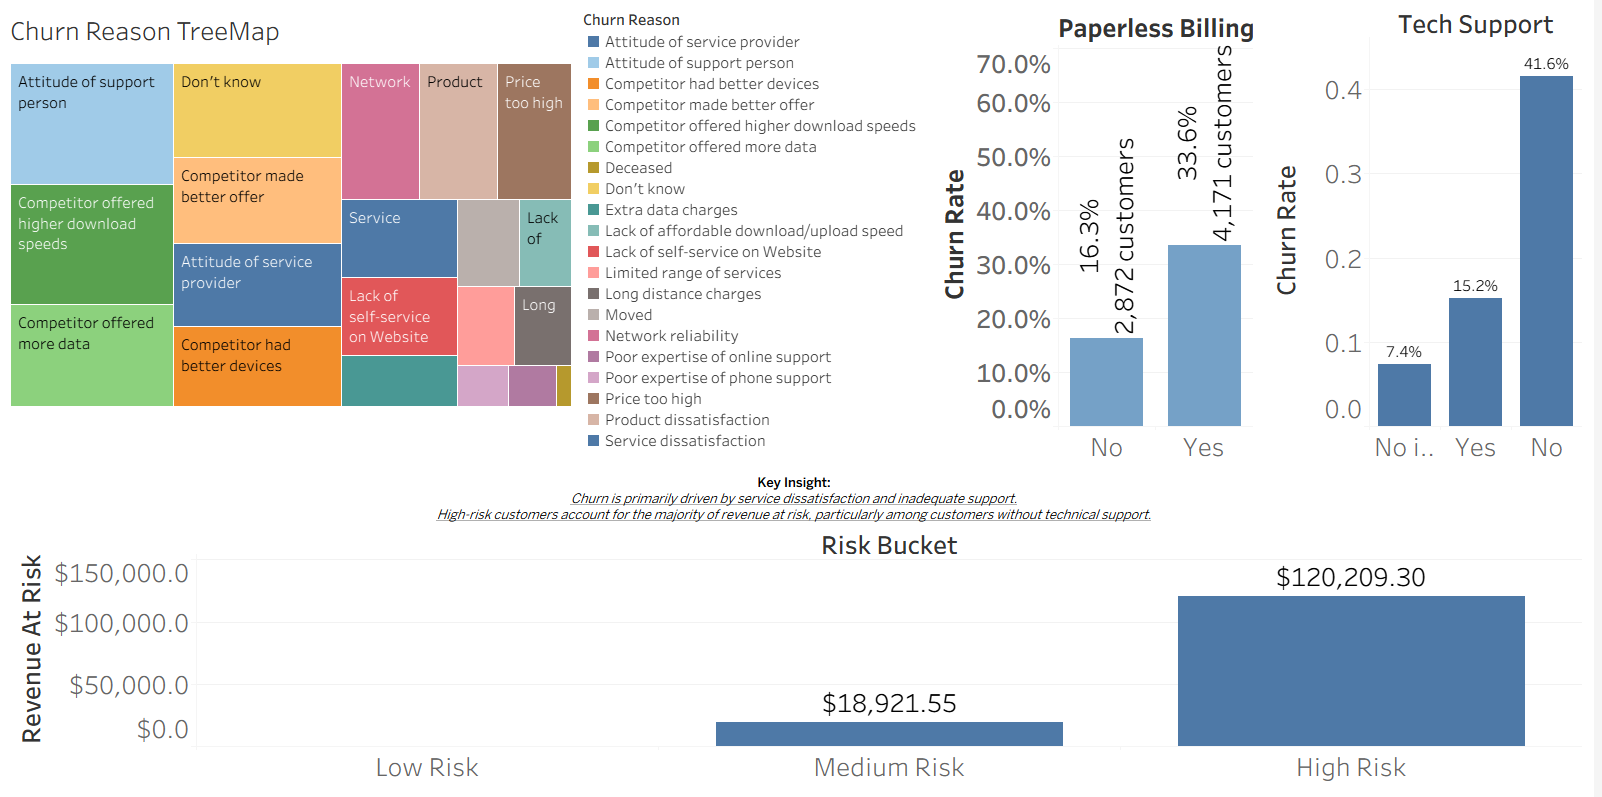

This screenshot's page, from the dashboard's own definition file:
{"tool":"tableau","page":{"name":"Churn Drivers & Segmentation","canvas":[1600,800],"ordinal":0},"visuals":[{"type":"worksheet","title":"Churn Reason TreeMap","mark":"Square","box":[8,8,577.4,490]},{"type":"legend","title":"Churn Reason TreeMap","param":"[federated.069xpdd0oa2ae711o6uby123b1ii].[none:Churn Reason:nk]","box":[585.4,8,347.6,490]},{"type":"worksheet","title":"Paperless Billing VS Churn","mark":"Automatic","rows":["ChurnFlag"],"cols":["Paperless Billing"],"box":[933,8,330,490]},{"type":"worksheet","title":"Tech Support VS Churn","mark":"Automatic","rows":["ChurnFlag"],"cols":["Tech Support"],"box":[1263,8,329,490]},{"type":"text","box":[8,498,1584,35]},{"type":"worksheet","title":"Revenue at Risk By Bucket","mark":"Automatic","rows":["RevenueAtRisk"],"cols":["RiskBucket"],"box":[8,533,1584,259]}]}

Visuals, with their boxes in screenshot pixels (x1, y1, x2, y2), scaled from the page's 1600x800 canvas onto the 1602x797 screenshot:
"Churn Reason TreeMap" worksheet (Square marks): box(8, 8, 586, 496)
"Churn Reason TreeMap" legend: box(586, 8, 934, 496)
"Paperless Billing VS Churn" worksheet: box(934, 8, 1265, 496)
"Tech Support VS Churn" worksheet: box(1265, 8, 1594, 496)
text: box(8, 496, 1594, 531)
"Revenue at Risk By Bucket" worksheet: box(8, 531, 1594, 789)
